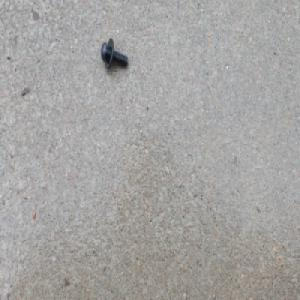BoltWasher: (101, 37, 128, 70)
